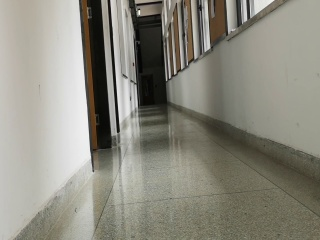room: (75, 1, 111, 170)
